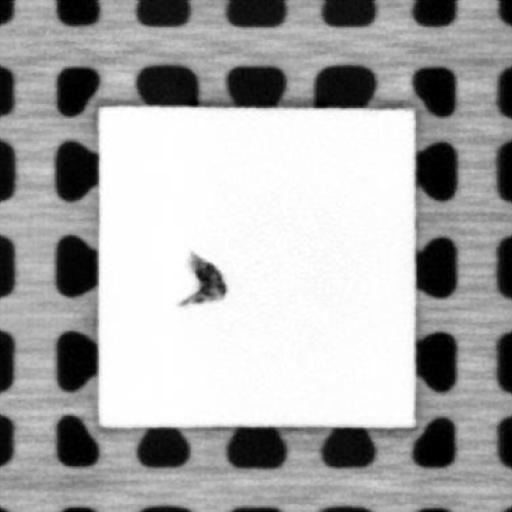DIE_INK: (172, 250, 226, 307)
